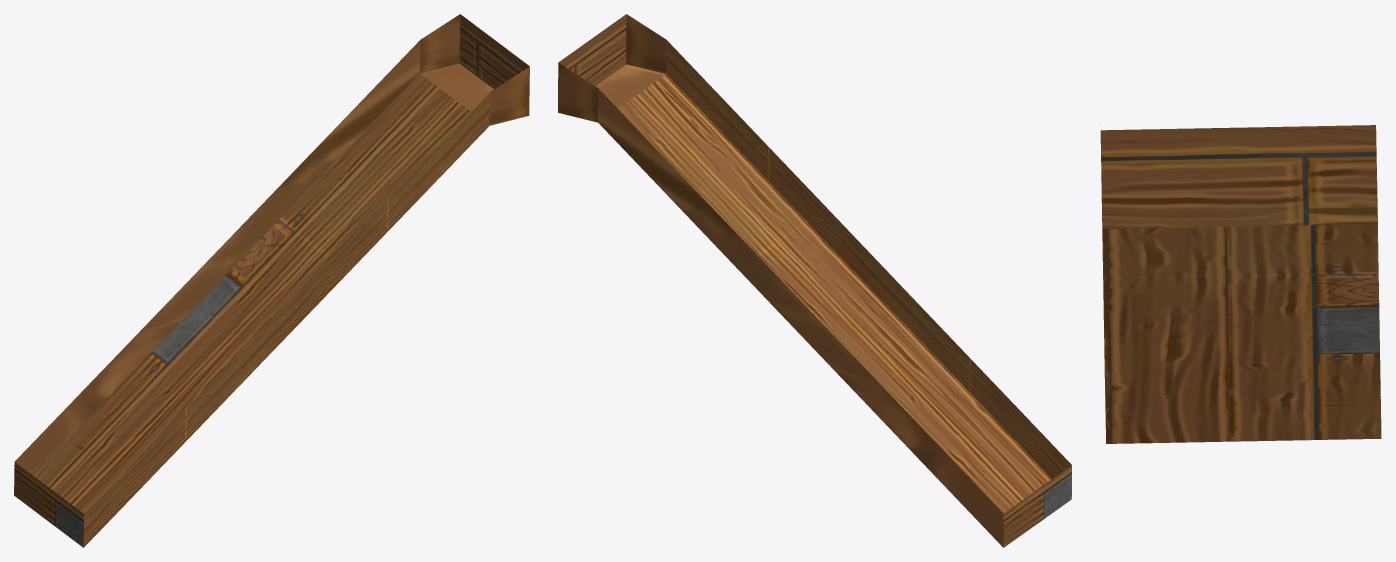
The picture shows the model from 3 angles, left to right: view 1: azimuth 30°, elevation 25°; view 2: azimuth 150°, elevation 25°; view 3: azimuth 270°, elevation 25°; orthographic projection. The views are drawn at different scales.
Parts seen in each view (by area): view 1: Cube.781; view 2: Cube.781; view 3: Cube.781.
Part boxes in pixels (box(x1,y1,x2,y2)): Cube.781: box(14, 14, 529, 547); Cube.781: box(558, 14, 1071, 547); Cube.781: box(1100, 125, 1381, 443).
Size of the model in its own units: 797 by 643 by 218.
Materials: 1 (1 with a texture image).
